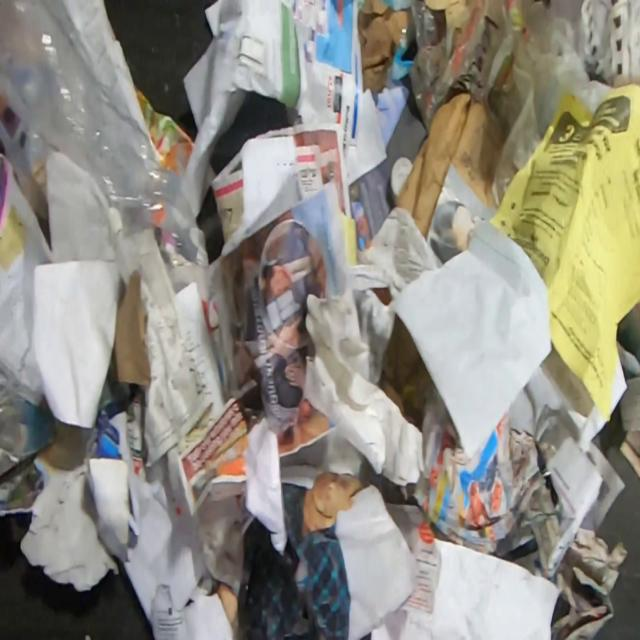cardboard: (18, 400, 140, 594), (394, 93, 497, 237), (376, 311, 434, 427), (358, 0, 416, 94), (109, 265, 151, 388), (301, 470, 374, 537), (424, 0, 463, 22)
rigid_plastic: (388, 155, 413, 204)
soft_plastic: (0, 0, 201, 266), (399, 0, 614, 208)
